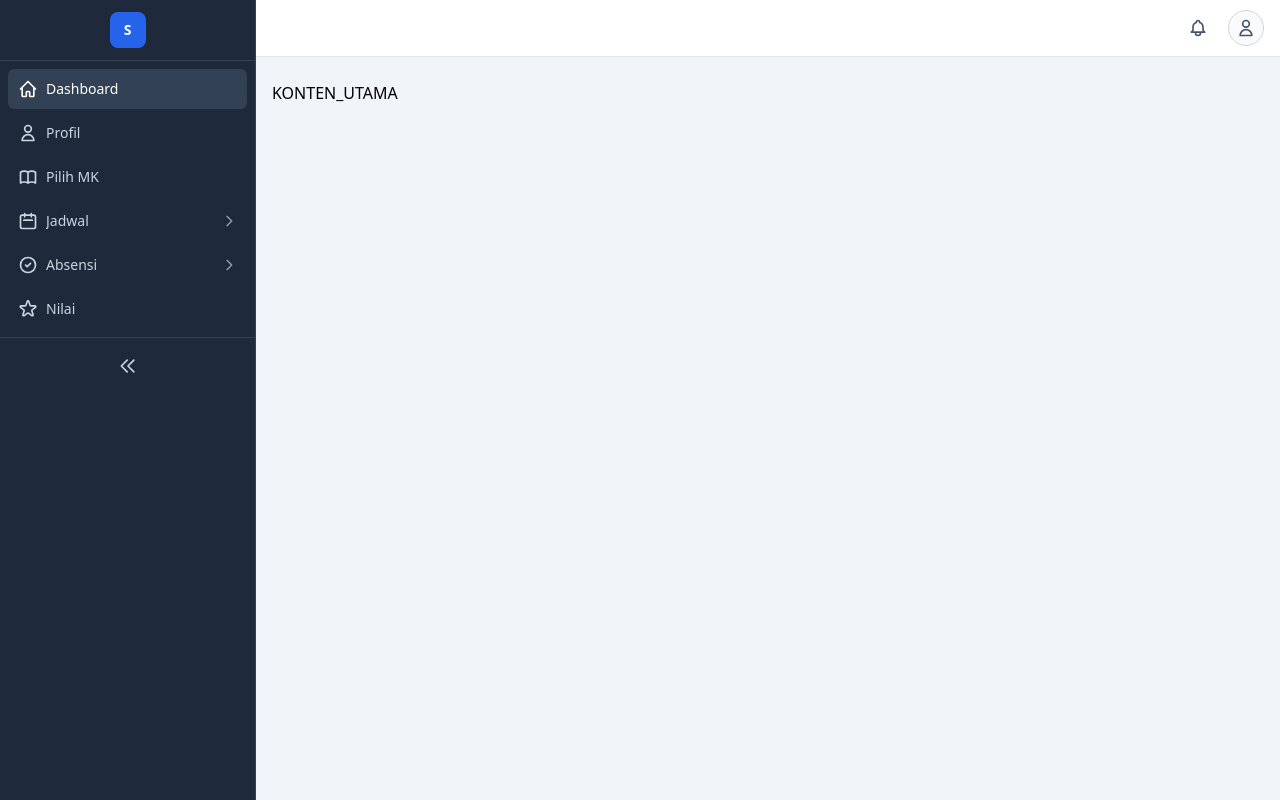
AppLayout (T1.11d polish + keluhan #5 sidebar ikon & #26 dropdown avatar) › keluhan #5 — submenu dosen pindah ke sidebar (Pilih MK, Jadwal, Absensi, Nilai)
This screenshot has width=1280, height=800.
Expected: the text "Pilih MK" is shown, [46,167,99,187]
Expected: the text "Jadwal" is shown, [46,211,89,230]
# Absensi adalah parent dropdown — perlu klik untuk expand dan lihat children
Click the button "Absensi" at (128, 265), box [8,245,247,285]
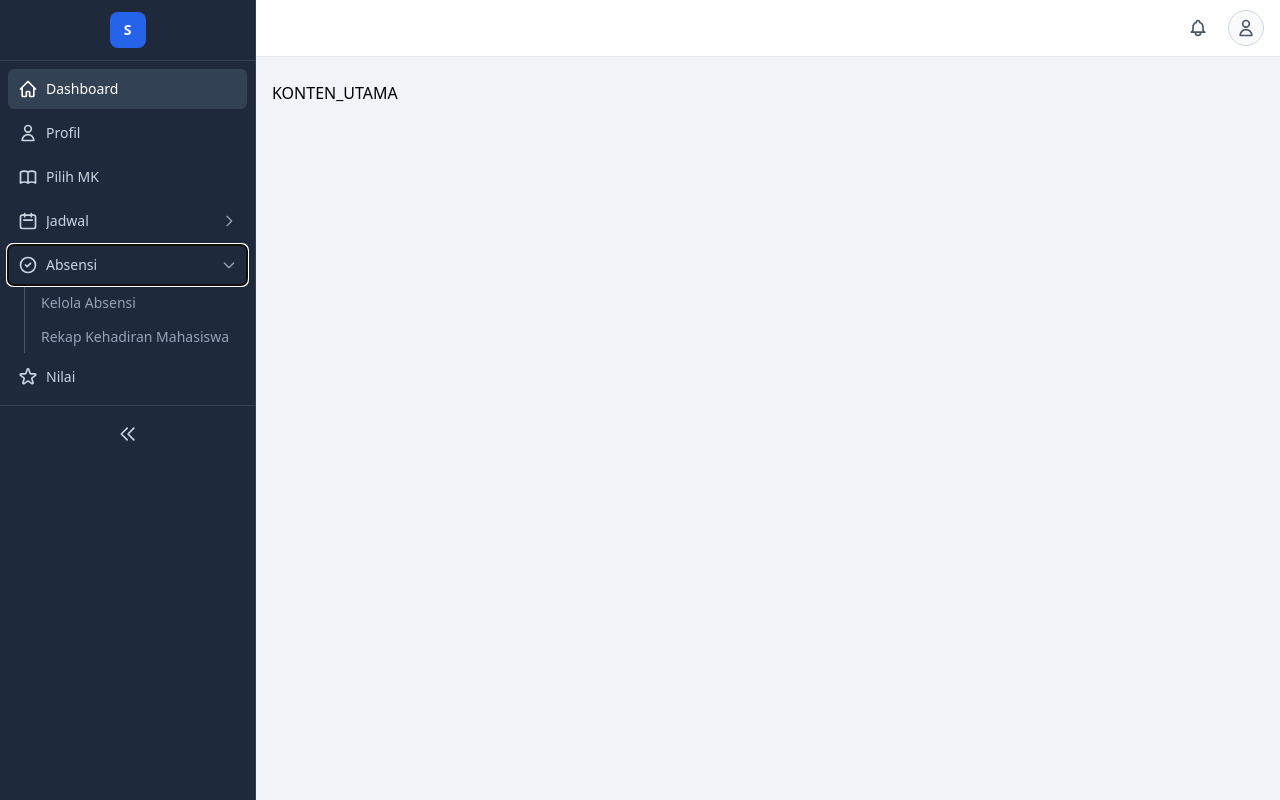
Expected: the text "Pilih MK" is shown, [46,167,99,187]
Now the text "Kelola Absensi" is shown, box [41,293,136,313]
Now the text "Rekap Kehadiran Mahasiswa" is shown, box [41,327,229,347]
